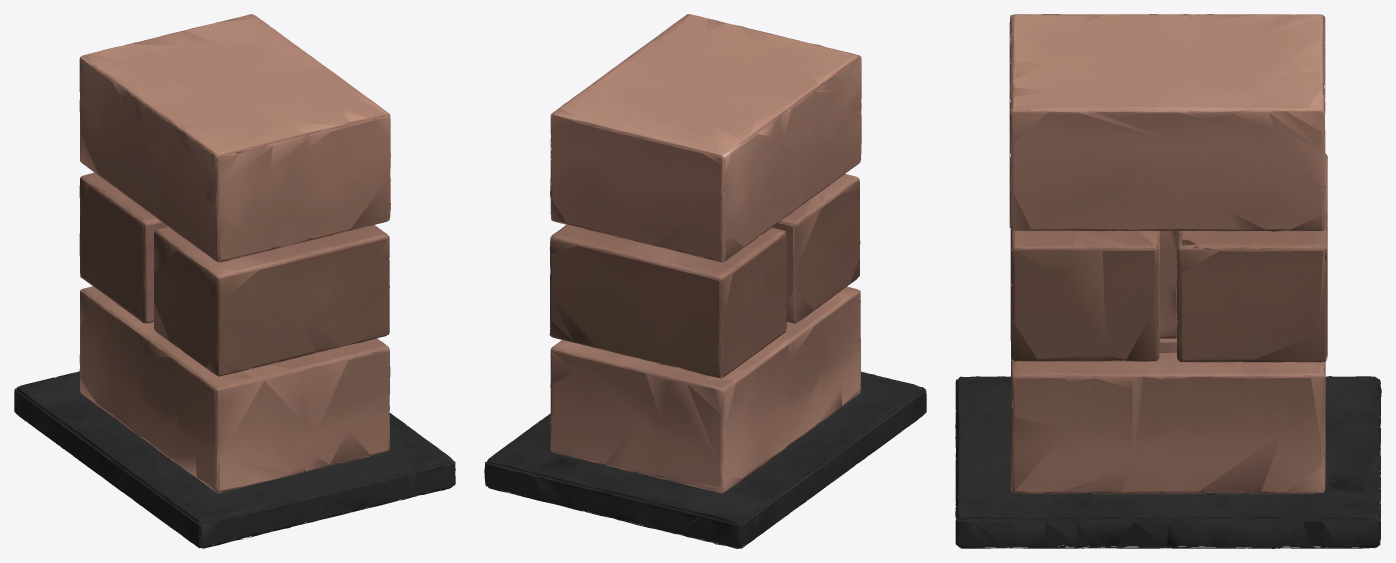
The model's file is PenthouseSculpture.glb.
3 views of the same model, side by side, from view 1: azimuth 30°, elevation 25°; view 2: azimuth 150°, elevation 25°; view 3: azimuth 270°, elevation 25° (orthographic). The views are drawn at different scales.
Visible parts, largest first — view 1: Penthouse-Sculpture_00, Penthouse-Sculpture_10, Penthouse-Sculpture_01, Penthouse-Sculpture_11; view 2: Penthouse-Sculpture_01, Penthouse-Sculpture_11, Penthouse-Sculpture_00, Penthouse-Sculpture_10; view 3: Penthouse-Sculpture_10, Penthouse-Sculpture_11, Penthouse-Sculpture_01, Penthouse-Sculpture_00.
Boxes of the visible parts, x1,y1,x2,y2 form: Penthouse-Sculpture_00: [106, 83, 328, 548]; Penthouse-Sculpture_10: [235, 63, 455, 518]; Penthouse-Sculpture_01: [14, 34, 234, 481]; Penthouse-Sculpture_11: [167, 14, 320, 277]; Penthouse-Sculpture_01: [612, 84, 834, 548]; Penthouse-Sculpture_11: [484, 64, 704, 518]; Penthouse-Sculpture_00: [706, 34, 926, 481]; Penthouse-Sculpture_10: [620, 14, 773, 391]; Penthouse-Sculpture_10: [955, 61, 1168, 548]; Penthouse-Sculpture_11: [1168, 61, 1380, 548]; Penthouse-Sculpture_01: [1168, 14, 1381, 468]; Penthouse-Sculpture_00: [955, 14, 1168, 466].
Size of the model in its own units: 8.85 by 12.01 by 11.11.
Materials: 1 (1 with a texture image).
